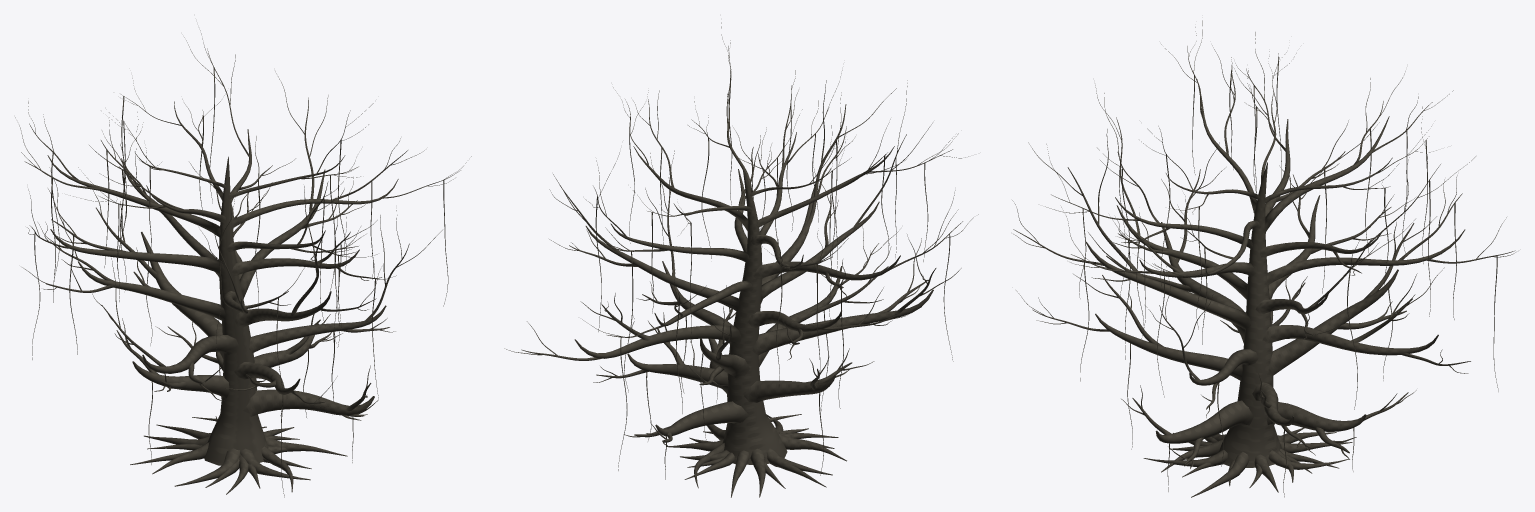
File: tree.gltf
3 views of the same model, side by side, from view 1: azimuth 30°, elevation 25°; view 2: azimuth 150°, elevation 25°; view 3: azimuth 270°, elevation 25° (orthographic).
Parts seen in each view (by area): view 1: Tree_LOD0; view 2: Tree_LOD0; view 3: Tree_LOD0.
Part boxes in pixels (<box>): Tree_LOD0: <box>15,30,471,497</box>; Tree_LOD0: <box>504,22,978,497</box>; Tree_LOD0: <box>1012,20,1515,497</box>.
Size of the model in its own units: 148 by 131 by 158.
1 material, 1 textured.
